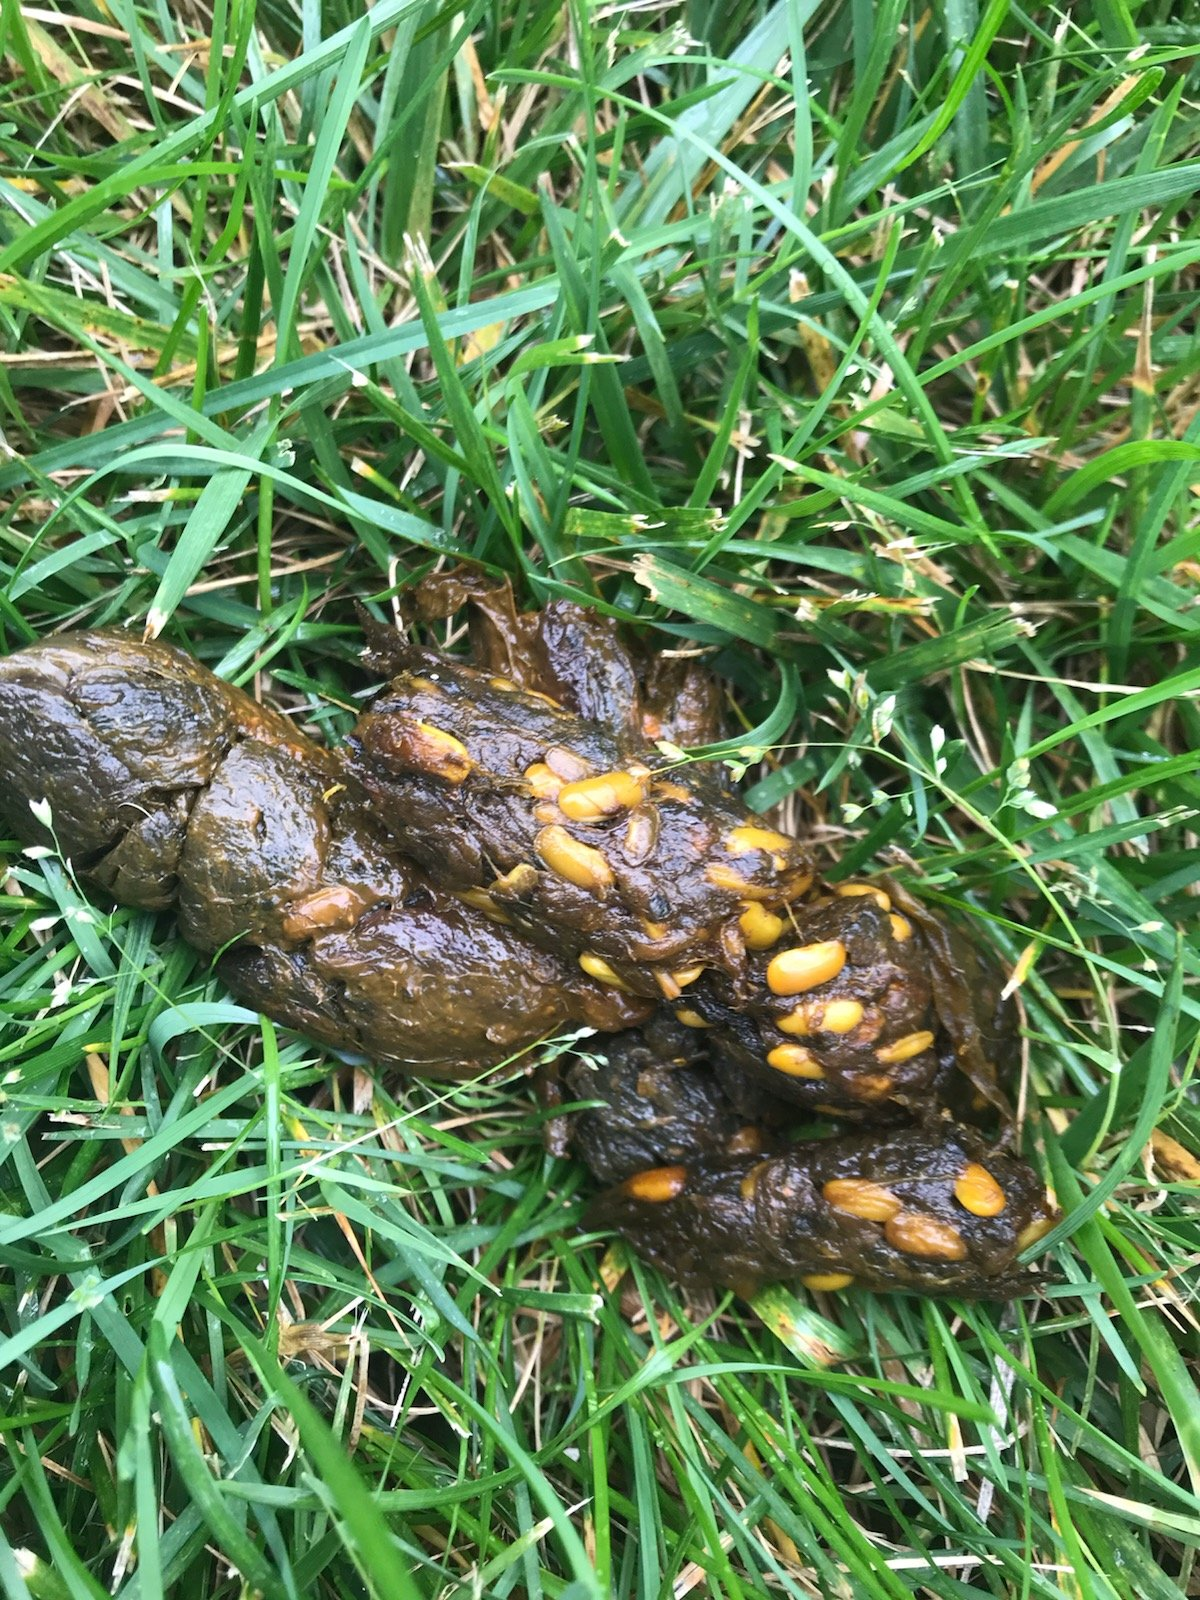Dog: (5, 572, 1037, 1285)
